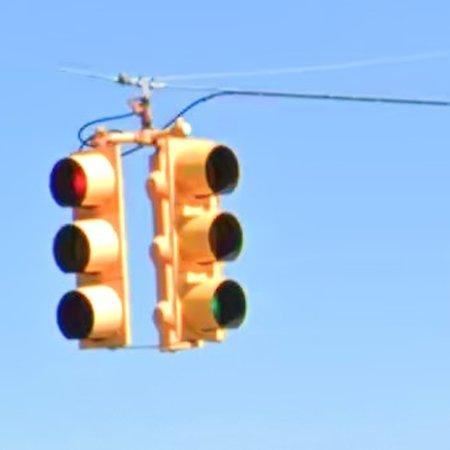traffic lights: (147, 137, 247, 351), (50, 144, 130, 348)
